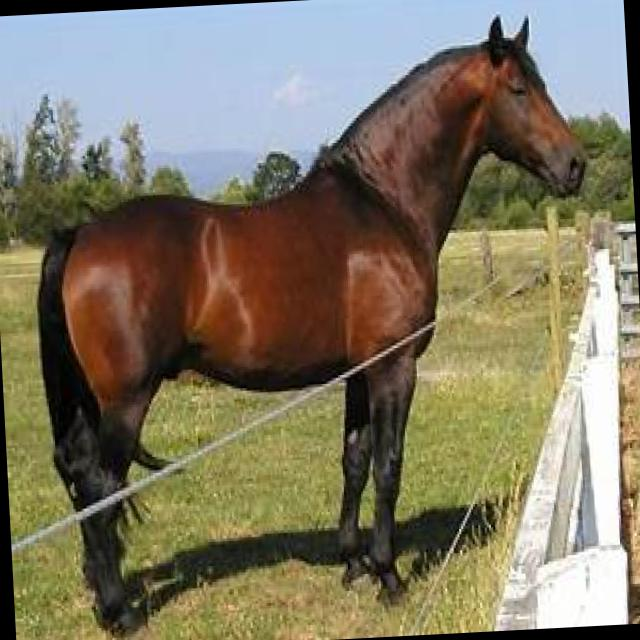animal: (23, 7, 613, 640)
